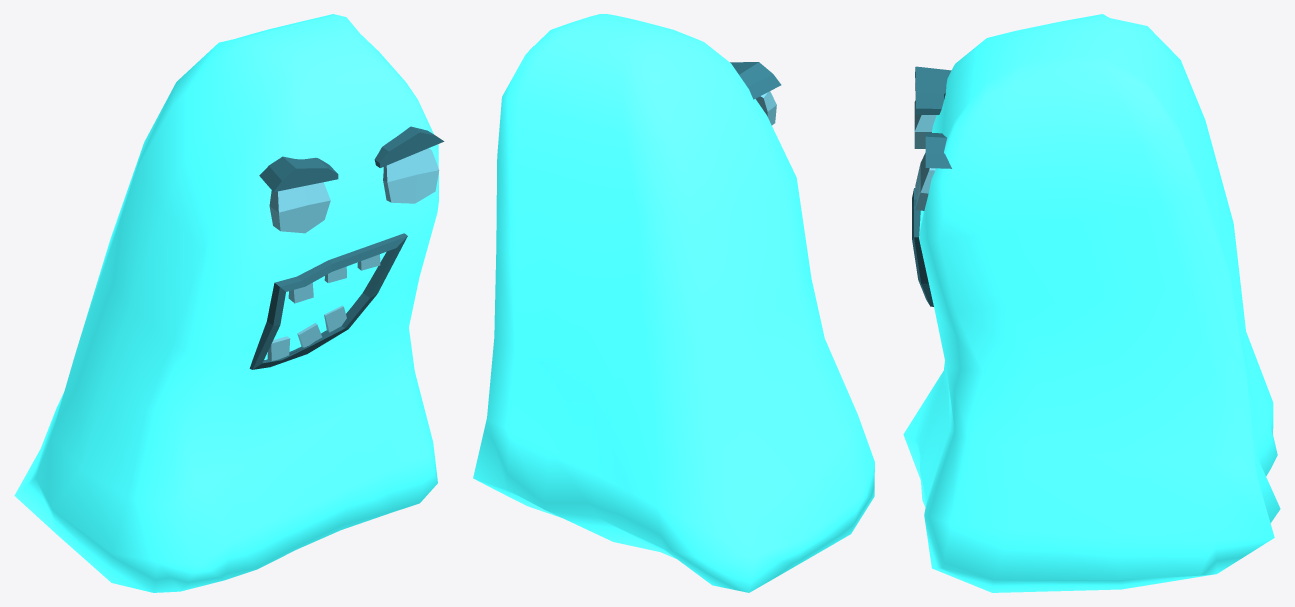
File: Ghost.fbx
3 views of the same model, side by side, from view 1: azimuth 30°, elevation 25°; view 2: azimuth 150°, elevation 25°; view 3: azimuth 270°, elevation 25° (orthographic). The views are drawn at different scales.
Parts seen in each view (by area): view 1: Body, Mouth, Eye.001, Eye, Eyebrow.001, Eyebrow; view 2: Body, Eyebrow.001; view 3: Body, Eyebrow.001, Mouth, Eyebrow, Eye, Eye.001.
Part boxes in pixels (x1=…): Body: x1=14, y1=14, x2=438, y2=592; Mouth: x1=249, y1=233, x2=407, y2=369; Eye.001: x1=269, y1=182, x2=330, y2=233; Eye: x1=383, y1=148, x2=439, y2=203; Eyebrow.001: x1=259, y1=156, x2=338, y2=191; Eyebrow: x1=374, y1=126, x2=444, y2=167; Body: x1=473, y1=14, x2=874, y2=592; Eyebrow.001: x1=730, y1=62, x2=781, y2=99; Body: x1=903, y1=14, x2=1280, y2=592; Eyebrow.001: x1=915, y1=66, x2=951, y2=114; Mouth: x1=912, y1=188, x2=933, y2=306; Eyebrow: x1=925, y1=132, x2=951, y2=168; Eye: x1=915, y1=153, x2=935, y2=210; Eye.001: x1=914, y1=100, x2=936, y2=148.
Bounding box in the file's own units: 169 × 256 × 157.
